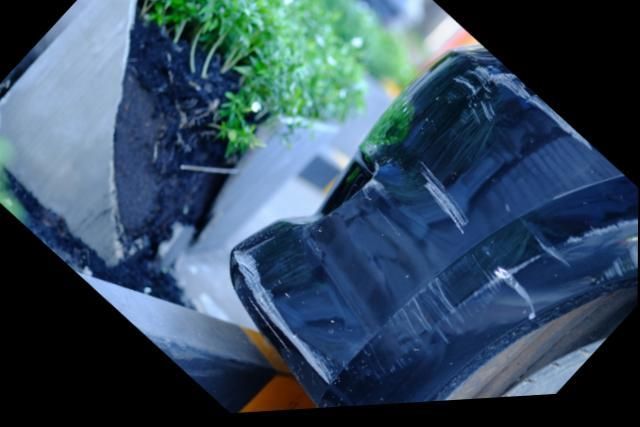scratch: (389, 225, 639, 373), (229, 251, 341, 388), (453, 70, 595, 158), (413, 163, 473, 243), (361, 167, 397, 213)
